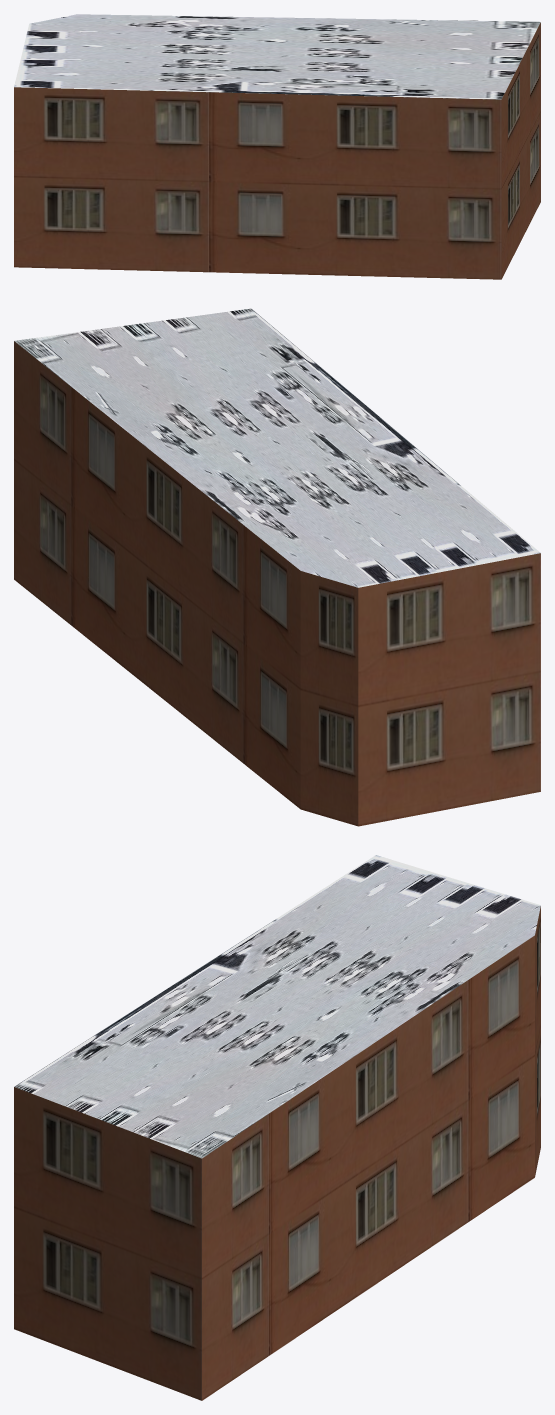
Rendered from ResTex__2747.fbx.
The picture shows the model from 3 angles, top to bottom: view 1: azimuth 30°, elevation 25°; view 2: azimuth 150°, elevation 25°; view 3: azimuth 270°, elevation 25°; orthographic projection. The views are drawn at different scales.
Parts seen in each view (by area): view 1: CityEngineMaterial_20_m, CityEngineMaterial_4_m; view 2: CityEngineMaterial_20_m, CityEngineMaterial_4_m; view 3: CityEngineMaterial_20_m, CityEngineMaterial_4_m.
Boxes of the visible parts, x1,y1,x2,y2 form: CityEngineMaterial_20_m: (14,22,540,279); CityEngineMaterial_4_m: (14,14,540,99); CityEngineMaterial_20_m: (14,341,540,826); CityEngineMaterial_4_m: (14,308,540,587); CityEngineMaterial_20_m: (14,906,540,1400); CityEngineMaterial_4_m: (14,855,540,1158).
Size of the model in its own units: 16.12 by 6 by 11.82.
Materials: 2 (2 with a texture image).
